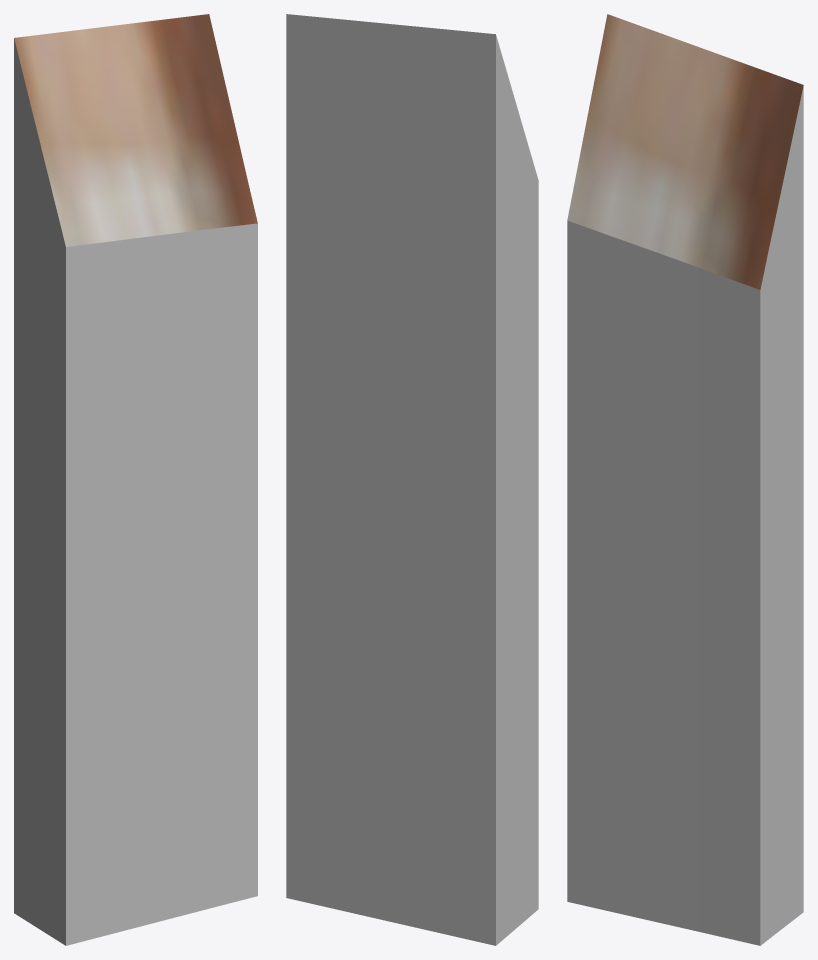
Rendered from DEBW_0010007THX5.gltf.
3 views of the same model, side by side, from view 1: azimuth 30°, elevation 25°; view 2: azimuth 150°, elevation 25°; view 3: azimuth 330°, elevation 25° (orthographic). The views are drawn at different scales.
Visible parts, largest first — view 1: Z_UP; view 2: Z_UP; view 3: Z_UP.
Part boxes in pixels (left/top/right/bottom): Z_UP: left=14, top=14, right=257, bottom=945; Z_UP: left=286, top=14, right=538, bottom=945; Z_UP: left=567, top=14, right=803, bottom=945.
Bounding box in the file's own units: 3.73 × 15.56 × 1.6.
Materials: 2 (1 with a texture image).
